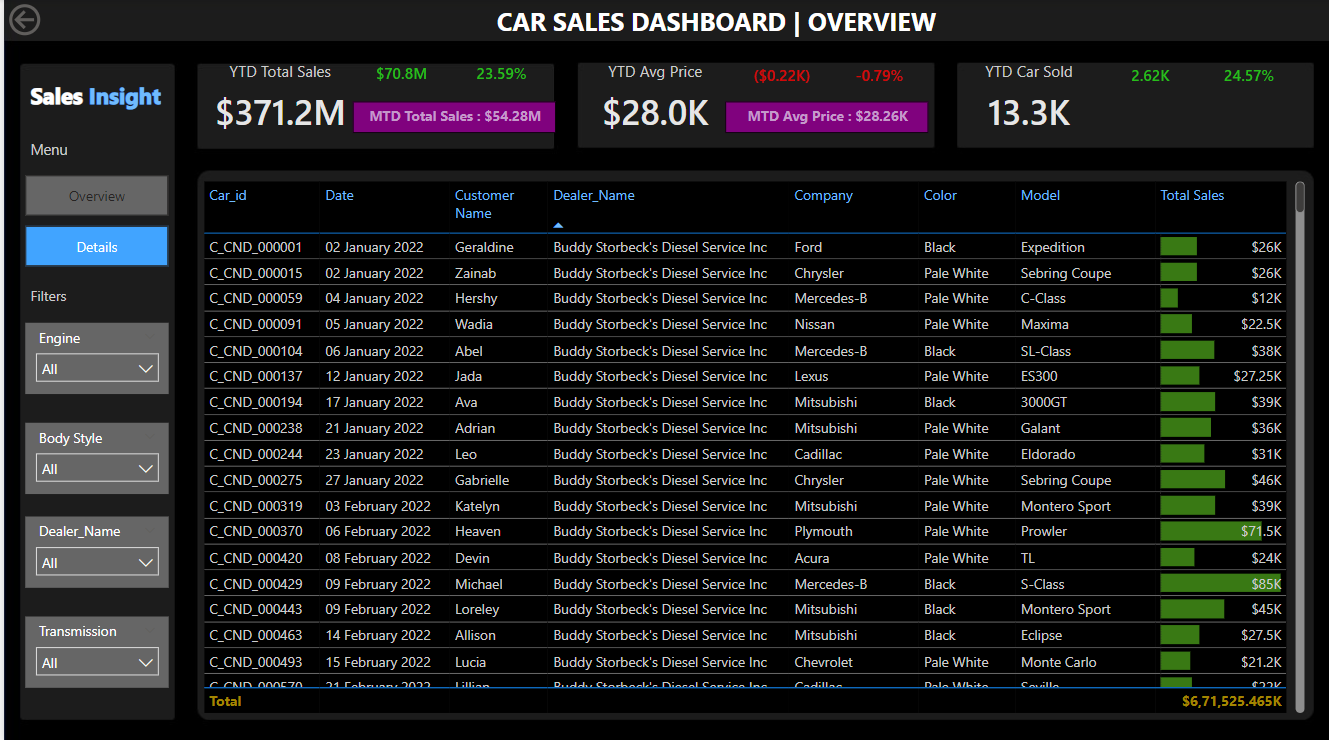

This screenshot's page, from the dashboard's own definition file:
{"tool":"powerbi","page":{"name":"Details","canvas":[1280,720],"ordinal":1},"visuals":[{"type":"card","title":"YTD Total Sales","fields":{"Values":["car_data.YTD Total Sales"]},"box":[196.2,59,140,79.6],"z":0},{"type":"card","fields":{"Values":["car_data.Sales Difference"]},"box":[336.2,56.3,94.7,34.3],"z":1000},{"type":"card","fields":{"Values":["car_data.YOY Sales Growth"]},"box":[428.1,56.3,104.3,34.3],"z":2000},{"type":"card","fields":{"Values":["car_data.MTD KPI"]},"box":[336.2,98.8,196.2,30.2],"z":3000},{"type":"card","title":"YTD Avg Price","fields":{"Values":["car_data.YTD Avg Price"]},"box":[553,59,149.6,79.6],"z":4000},{"type":"card","fields":{"Values":["car_data.Avg Price Diff"]},"box":[702.6,59,94.7,34.3],"z":5000},{"type":"card","fields":{"Values":["car_data.YOY Avg Price Growth"]},"box":[797.3,59,94.7,34.3],"z":6000},{"type":"card","fields":{"Values":["car_data.MTD Avg Price KPI"]},"box":[695.7,98.8,196.2,30.2],"z":7000},{"type":"card","title":"YTD Car Sold","fields":{"Values":["car_data.YTD Car Sold"]},"box":[919.4,59,140,79.6],"z":8000},{"type":"card","fields":{"Values":["car_data.Car Sold Diff"]},"box":[1059.4,59,94.7,34.3],"z":9000},{"type":"card","fields":{"Values":["car_data.YOY Car Sold Growth"]},"box":[1154,59,94.7,34.3],"z":10000},{"type":"actionButton","box":[0,0,100,40],"z":11000},{"type":"textbox","box":[470,0,531.4,42.9],"z":12000},{"type":"slicer","fields":{"Values":["car_data.Body Style"]},"box":[20.6,408.9,138.6,68.6],"z":13000},{"type":"slicer","fields":{"Values":["car_data.Dealer_Name"]},"box":[20.6,499.5,138.6,68.6],"z":14000},{"type":"slicer","fields":{"Values":["car_data.Transmission"]},"box":[20.6,595.5,138.6,68.6],"z":15000},{"type":"slicer","fields":{"Values":["car_data.Engine"]},"box":[20.6,312.9,138.6,68.6],"z":16000},{"type":"tableEx","fields":{"Values":["car_data.Car_id","car_data.Date","car_data.Customer Name","car_data.Dealer_Name","car_data.Company","car_data.Color","car_data.Model","car_data.Price ($)"]},"box":[186.6,171.5,1073.1,522.8],"z":17000},{"type":"pageNavigator","box":[20.6,170.2,138.6,89.2],"z":18000},{"type":"textbox","box":[20.6,74.1,219.6,39.8],"z":19000},{"type":"textbox","box":[20.6,273.1,138.6,39.8],"z":20000},{"type":"textbox","box":[20.6,130.4,138.6,39.8],"z":21000}]}

Visuals, with their boxes in screenshot pixels (x1, y1, x2, y2), scaled from the page's 1280x720 canvas onto the 1329x740 screenshot:
"YTD Total Sales" card: 204/61/349/142
card - car_data.Sales Difference: 349/58/447/93
card - car_data.YOY Sales Growth: 444/58/553/93
card - car_data.MTD KPI: 349/102/553/133
"YTD Avg Price" card: 574/61/729/142
card - car_data.Avg Price Diff: 729/61/828/96
card - car_data.YOY Avg Price Growth: 828/61/926/96
card - car_data.MTD Avg Price KPI: 722/102/926/133
"YTD Car Sold" card: 955/61/1100/142
card - car_data.Car Sold Diff: 1100/61/1198/96
card - car_data.YOY Car Sold Growth: 1198/61/1297/96
actionButton: 0/0/104/41
textbox: 488/0/1040/44
slicer - car_data.Body Style: 21/420/165/491
slicer - car_data.Dealer_Name: 21/513/165/584
slicer - car_data.Transmission: 21/612/165/683
slicer - car_data.Engine: 21/322/165/392
tableEx - car_data.Car_id x car_data.Date: 194/176/1308/714
pageNavigator: 21/175/165/267
textbox: 21/76/249/117
textbox: 21/281/165/322
textbox: 21/134/165/175
